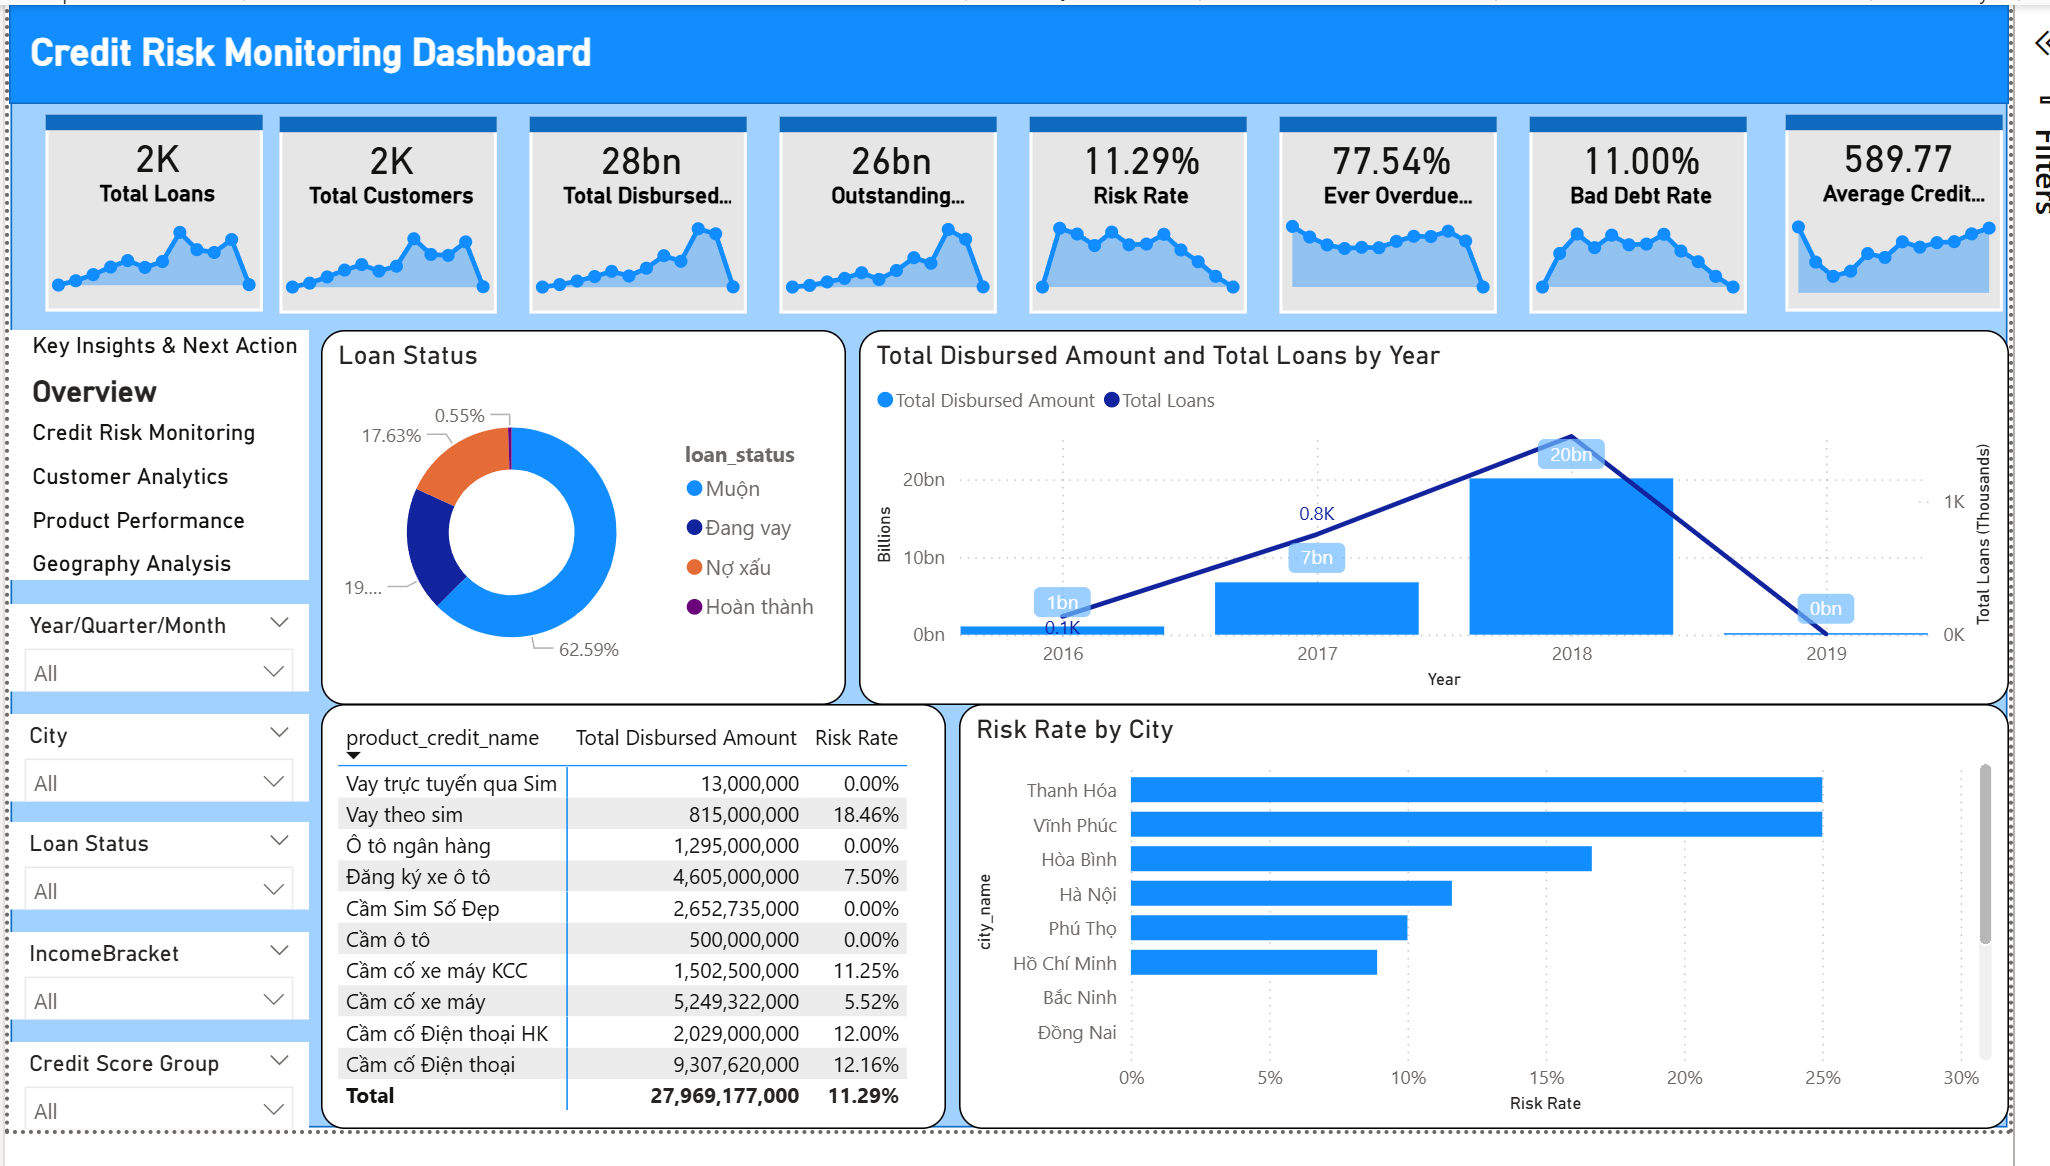

Layout of this report page (visuals, bound fields, positions):
{"tool":"powerbi","page":{"name":"Overview","canvas":[1280,720],"ordinal":1},"visuals":[{"type":"textbox","box":[10,0,280,280],"z":0},{"type":"cardVisual","fields":{"Data":["Measure.Average Credit Score"]},"box":[1120,53.1,173.3,160],"z":0,"group":"g10"},{"type":"cardVisual","fields":{"Data":["Measure.Total Loans"]},"box":[6.1,53.4,173.3,160],"z":0,"group":"g9"},{"type":"cardVisual","fields":{"Data":["Measure.Total Customers"]},"box":[156.3,54.4,173.3,160],"z":0,"group":"g3"},{"type":"cardVisual","fields":{"Data":["Measure.Outstanding Balance"]},"box":[476.3,54.4,173.3,160],"z":0,"group":"g5"},{"type":"cardVisual","fields":{"Data":["Measure.Risk Rate"]},"box":[636.3,54.4,173.3,160],"z":0,"group":"g6"},{"type":"cardVisual","fields":{"Data":["Measure.Overdue Rate"]},"box":[796.3,54.4,173.3,160],"z":0,"group":"g7"},{"type":"cardVisual","fields":{"Data":["Measure.Bad Debt Rate"]},"box":[956.3,54.4,173.3,160],"z":0,"group":"g8"},{"type":"slicer","fields":{"Values":["dim_date.date_key.Variation.Date Hierarchy.Year","dim_date.date_key.Variation.Date Hierarchy.Quarter","dim_date.date_key.Variation.Date Hierarchy.Month","dim_date.date_key.Variation.Date Hierarchy.Day"]},"box":[0,384,192,56],"z":0,"group":"g2"},{"type":"shape","box":[0,0,1280,720],"z":1000},{"type":"textbox","box":[9.5,11.1,639.4,46.1],"z":1000,"group":"g1"},{"type":"cardVisual","fields":{"Data":["Measure.Total Disbursed Amount"]},"box":[316.3,54.4,173.3,160],"z":1000,"group":"g4"},{"type":"lineChart","fields":{"Category":["dim_date.date_key.Variation.Date Hierarchy.Year","dim_date.date_key.Variation.Date Hierarchy.Quarter"],"Y":["Measure.Average Credit Score"]},"box":[1130.2,122,152,67.1],"z":1000,"group":"g10"},{"type":"lineChart","fields":{"Category":["dim_date.date_key.Variation.Date Hierarchy.Year","dim_date.date_key.Variation.Date Hierarchy.Quarter"],"Y":["Measure.Total Loans"]},"box":[16.3,122.3,152,67.1],"z":1000,"group":"g9"},{"type":"lineChart","fields":{"Category":["dim_date.date_key.Variation.Date Hierarchy.Year","dim_date.date_key.Variation.Date Hierarchy.Quarter"],"Y":["Measure.Total Customers"]},"box":[166.5,123.3,152,67.1],"z":1000,"group":"g3"},{"type":"lineChart","fields":{"Category":["dim_date.date_key.Variation.Date Hierarchy.Year","dim_date.date_key.Variation.Date Hierarchy.Quarter"],"Y":["Measure.Outstanding Balance"]},"box":[486.5,123.3,152,67.1],"z":1000,"group":"g5"},{"type":"lineChart","fields":{"Category":["dim_date.date_key.Variation.Date Hierarchy.Year","dim_date.date_key.Variation.Date Hierarchy.Quarter"],"Y":["Measure.Risk Rate"]},"box":[646.5,123.3,152,67.1],"z":1000,"group":"g6"},{"type":"lineChart","fields":{"Category":["dim_date.date_key.Variation.Date Hierarchy.Year","dim_date.date_key.Variation.Date Hierarchy.Quarter"],"Y":["Measure.Overdue Rate"]},"box":[806.5,123.3,152,67.1],"z":1000,"group":"g7"},{"type":"lineChart","fields":{"Category":["dim_date.date_key.Variation.Date Hierarchy.Year","dim_date.date_key.Variation.Date Hierarchy.Quarter"],"Y":["Measure.Bad Debt Rate"]},"box":[966.5,123.3,152,67.1],"z":1000,"group":"g8"},{"type":"slicer","fields":{"Values":["fact_loans.loan_status"]},"box":[0,524,192,56],"z":1000,"group":"g2"},{"type":"shape","box":[0,0,1280,64],"z":2000},{"type":"lineChart","fields":{"Category":["dim_date.date_key.Variation.Date Hierarchy.Year","dim_date.date_key.Variation.Date Hierarchy.Quarter"],"Y":["Measure.Total Disbursed Amount"]},"box":[326.5,123.3,152,67.1],"z":2000,"group":"g4"},{"type":"slicer","fields":{"Values":["dim_customer.credit_score_group"]},"box":[0,664,192,56],"z":2000,"group":"g2"},{"type":"group","id":"g1","title":"Group 1","box":[9.5,11.1,639.4,46.1],"z":3000},{"type":"slicer","fields":{"Values":["dim_customer.income_bracket"]},"box":[0,594,192,56],"z":3000,"group":"g2"},{"type":"group","id":"g2","title":"Group 2","box":[0,384,192,336],"z":4000},{"type":"slicer","fields":{"Values":["dim_geography.city_name"]},"box":[0,454,192,56],"z":4000,"group":"g2"},{"type":"group","id":"g3","title":"Total Loan","box":[156.3,54.4,160,160],"z":5000},{"type":"group","id":"g4","title":"Total Loan","box":[316.3,54.4,173.3,160],"z":6000},{"type":"group","id":"g5","title":"Total Loan","box":[476.3,54.4,160,160],"z":7000},{"type":"group","id":"g6","title":"Total Loan","box":[636.3,54.4,160,160],"z":8000},{"type":"group","id":"g7","title":"Total Loan","box":[796.3,54.4,160,160],"z":9000},{"type":"group","id":"g8","title":"Total Loan","box":[956.3,54.4,160,160],"z":10000},{"type":"group","id":"g9","title":"Total Loan","box":[6.1,53.4,160,160],"z":11000},{"type":"group","id":"g10","title":"Total Loan","box":[1120,53.1,160,160],"z":12000},{"type":"lineClusteredColumnComboChart","fields":{"Category":["dim_date.date_key.Variation.Date Hierarchy.Year","dim_date.date_key.Variation.Date Hierarchy.Month"],"Y":["Measure.Total Disbursed Amount"],"Y2":["Measure.Total Loans"]},"box":[544,208,736,240],"z":13000},{"type":"donutChart","title":"Loan Status","fields":{"Category":["fact_loans.loan_status"],"Y":["Measure.Total Loans"]},"box":[200,208,336,240],"z":14000},{"type":"pivotTable","title":"Disbursement by Product","fields":{"Rows":["dim_product.product_credit_name"],"Values":["Measure.Total Disbursed Amount","Measure.Risk Rate"]},"box":[200,448,400,272],"z":15000},{"type":"clusteredBarChart","title":"Risk Rate by City","fields":{"Category":["dim_geography.city_name"],"Y":["Measure.Risk Rate"]},"box":[608,448,672,272],"z":16000},{"type":"pageNavigator","box":[0,208,192,160],"z":17000}]}

Visuals, with their boxes on the page's 1280x720 design canvas (x1, y1, x2, y2). These are canvas units, not pixel positions in the 2050x1166 screenshot, which may show the page scaled, cropped or inside an application window:
textbox: bbox=[10, 0, 290, 280]
cardVisual - Measure.Average Credit Score: bbox=[1120, 53, 1293, 213]
cardVisual - Measure.Total Loans: bbox=[6, 53, 179, 213]
cardVisual - Measure.Total Customers: bbox=[156, 54, 330, 214]
cardVisual - Measure.Outstanding Balance: bbox=[476, 54, 650, 214]
cardVisual - Measure.Risk Rate: bbox=[636, 54, 810, 214]
cardVisual - Measure.Overdue Rate: bbox=[796, 54, 970, 214]
cardVisual - Measure.Bad Debt Rate: bbox=[956, 54, 1130, 214]
slicer - dim_date.date_key.Variation.Date Hierarchy.Year x dim_date.date_key.Variation.Date Hierarchy.Quarter: bbox=[0, 384, 192, 440]
shape: bbox=[0, 0, 1280, 720]
textbox: bbox=[10, 11, 649, 57]
cardVisual - Measure.Total Disbursed Amount: bbox=[316, 54, 490, 214]
lineChart - dim_date.date_key.Variation.Date Hierarchy.Year x dim_date.date_key.Variation.Date Hierarchy.Quarter: bbox=[1130, 122, 1282, 189]
lineChart - dim_date.date_key.Variation.Date Hierarchy.Year x dim_date.date_key.Variation.Date Hierarchy.Quarter: bbox=[16, 122, 168, 189]
lineChart - dim_date.date_key.Variation.Date Hierarchy.Year x dim_date.date_key.Variation.Date Hierarchy.Quarter: bbox=[166, 123, 318, 190]
lineChart - dim_date.date_key.Variation.Date Hierarchy.Year x dim_date.date_key.Variation.Date Hierarchy.Quarter: bbox=[486, 123, 638, 190]
lineChart - dim_date.date_key.Variation.Date Hierarchy.Year x dim_date.date_key.Variation.Date Hierarchy.Quarter: bbox=[646, 123, 798, 190]
lineChart - dim_date.date_key.Variation.Date Hierarchy.Year x dim_date.date_key.Variation.Date Hierarchy.Quarter: bbox=[806, 123, 958, 190]
lineChart - dim_date.date_key.Variation.Date Hierarchy.Year x dim_date.date_key.Variation.Date Hierarchy.Quarter: bbox=[966, 123, 1118, 190]
slicer - fact_loans.loan_status: bbox=[0, 524, 192, 580]
shape: bbox=[0, 0, 1280, 64]
lineChart - dim_date.date_key.Variation.Date Hierarchy.Year x dim_date.date_key.Variation.Date Hierarchy.Quarter: bbox=[326, 123, 478, 190]
slicer - dim_customer.credit_score_group: bbox=[0, 664, 192, 720]
"Group 1" group: bbox=[10, 11, 649, 57]
slicer - dim_customer.income_bracket: bbox=[0, 594, 192, 650]
"Group 2" group: bbox=[0, 384, 192, 720]
slicer - dim_geography.city_name: bbox=[0, 454, 192, 510]
"Total Loan" group: bbox=[156, 54, 316, 214]
"Total Loan" group: bbox=[316, 54, 490, 214]
"Total Loan" group: bbox=[476, 54, 636, 214]
"Total Loan" group: bbox=[636, 54, 796, 214]
"Total Loan" group: bbox=[796, 54, 956, 214]
"Total Loan" group: bbox=[956, 54, 1116, 214]
"Total Loan" group: bbox=[6, 53, 166, 213]
"Total Loan" group: bbox=[1120, 53, 1280, 213]
lineClusteredColumnComboChart - dim_date.date_key.Variation.Date Hierarchy.Year x dim_date.date_key.Variation.Date Hierarchy.Month: bbox=[544, 208, 1280, 448]
"Loan Status" donutChart: bbox=[200, 208, 536, 448]
"Disbursement by Product" pivotTable: bbox=[200, 448, 600, 720]
"Risk Rate by City" clusteredBarChart: bbox=[608, 448, 1280, 720]
pageNavigator: bbox=[0, 208, 192, 368]
